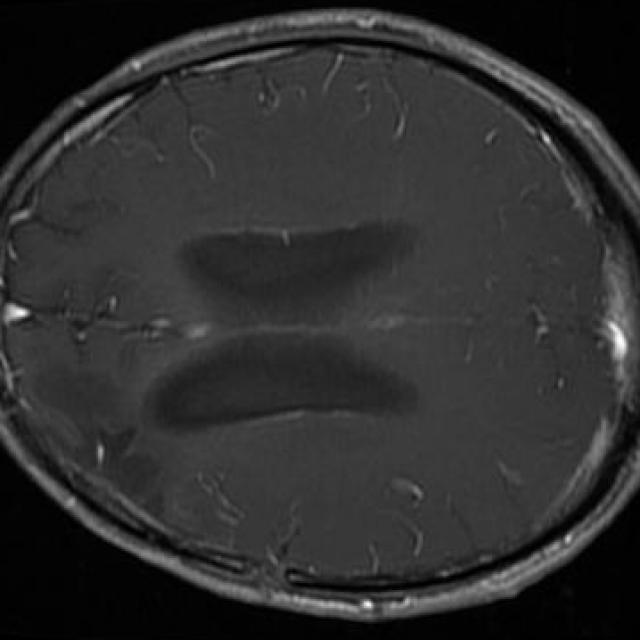glioma: (32, 353, 160, 517)
